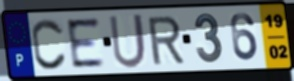3: (193, 11, 224, 66)
6: (228, 12, 260, 63)
C: (30, 17, 69, 72)
E: (64, 16, 107, 70)
R: (145, 14, 186, 67)
U: (108, 12, 149, 71)
